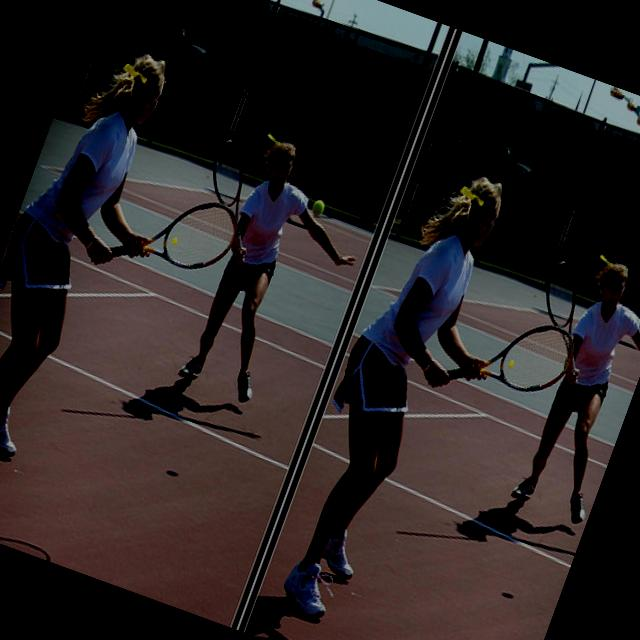Vehicle: (125, 12, 217, 82), (144, 61, 222, 142), (453, 130, 544, 194), (486, 185, 548, 253)
